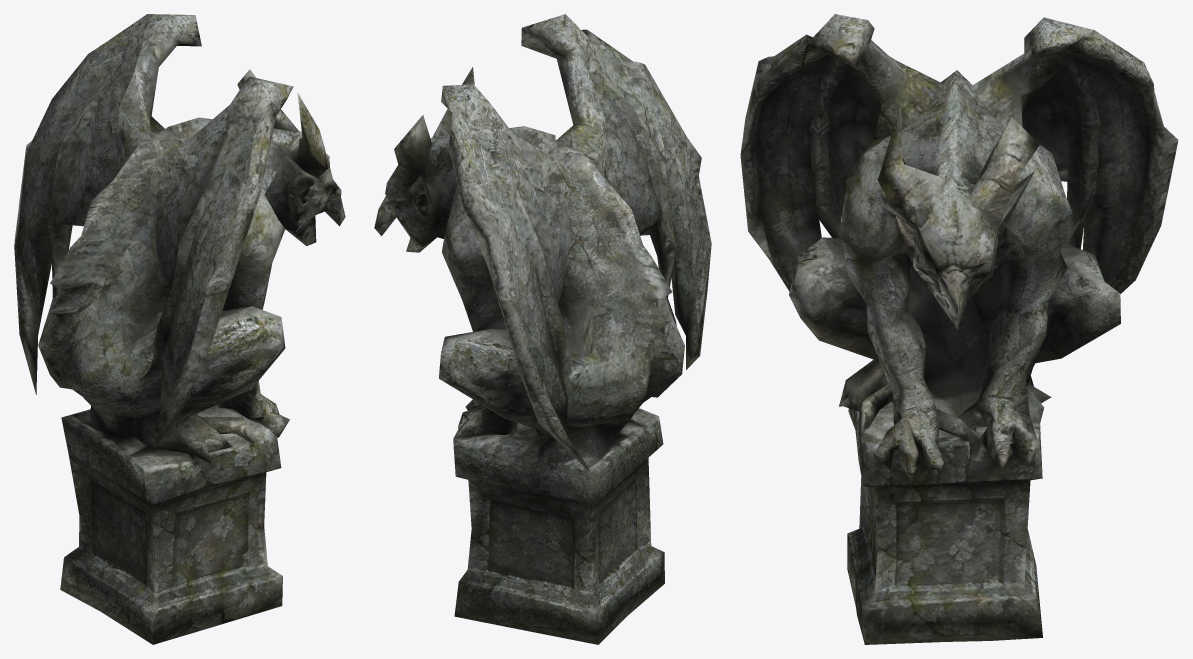
File: gargoyle.glb
3 views of the same model, side by side, from view 1: azimuth 30°, elevation 25°; view 2: azimuth 150°, elevation 25°; view 3: azimuth 270°, elevation 25° (orthographic). The views are drawn at different scales.
Visible parts, largest first — view 1: tripo_node_888a3275-7ccc-43bb-9edf-a6ee886a272d; view 2: tripo_node_888a3275-7ccc-43bb-9edf-a6ee886a272d; view 3: tripo_node_888a3275-7ccc-43bb-9edf-a6ee886a272d.
Part boxes in pixels (x1,y1,x2,y2): tripo_node_888a3275-7ccc-43bb-9edf-a6ee886a272d: [14, 14, 345, 644]; tripo_node_888a3275-7ccc-43bb-9edf-a6ee886a272d: [374, 14, 711, 644]; tripo_node_888a3275-7ccc-43bb-9edf-a6ee886a272d: [740, 14, 1178, 644].
Bounding box in the file's own units: 0.5832 × 1 × 0.6473.
Materials: 1 (1 with a texture image).
